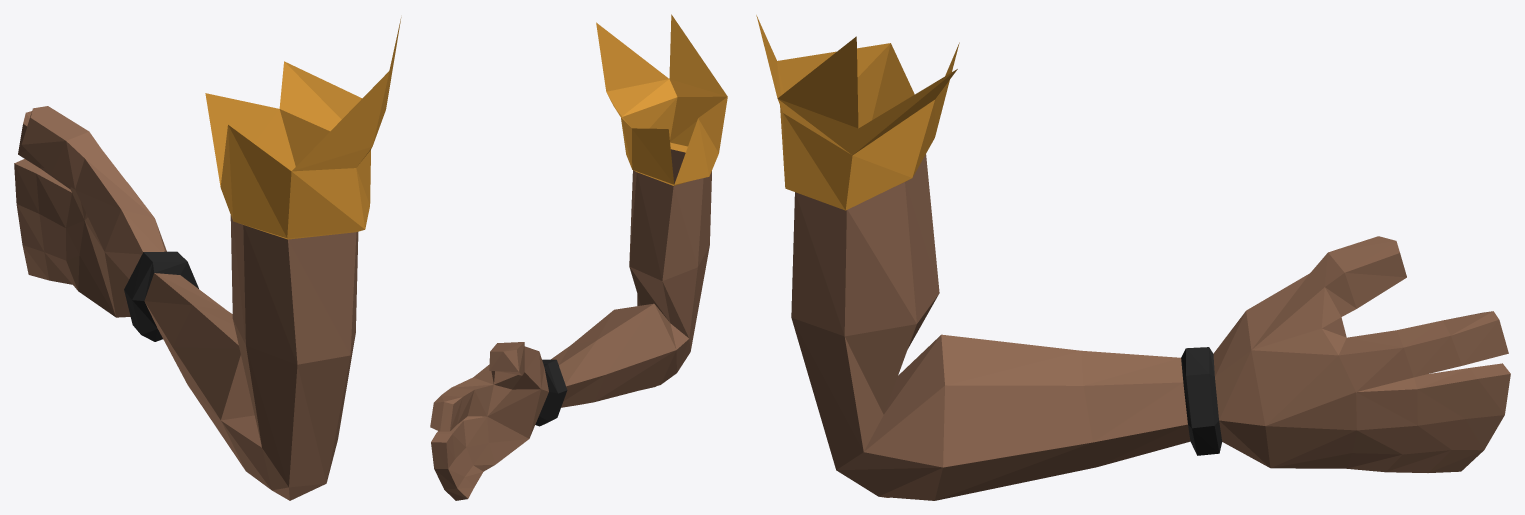
File: ShopKeeper_01_ArmR_96_02_C.obj
3 views of the same model, side by side, from view 1: azimuth 30°, elevation 25°; view 2: azimuth 150°, elevation 25°; view 3: azimuth 270°, elevation 25° (orthographic). The views are drawn at different scales.
Visible parts, largest first — view 1: ShopKeeper_01_ArmR_96_02_C; view 2: ShopKeeper_01_ArmR_96_02_C; view 3: ShopKeeper_01_ArmR_96_02_C.
Boxes of the visible parts, x1=… form: ShopKeeper_01_ArmR_96_02_C: x1=14, y1=17, x2=401, y2=500; ShopKeeper_01_ArmR_96_02_C: x1=430, y1=14, x2=727, y2=500; ShopKeeper_01_ArmR_96_02_C: x1=756, y1=15, x2=1510, y2=500.
Size of the model in its own units: 0.1602 by 0.4443 by 0.5919.
Materials: 1 (1 with a texture image).
